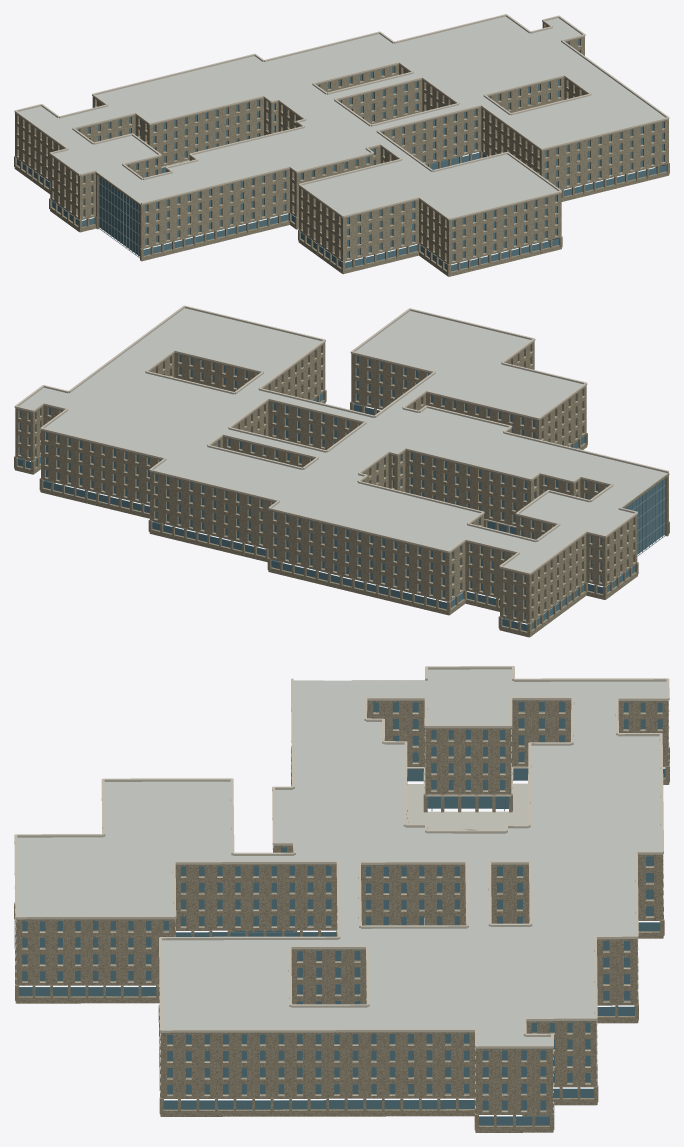
File: zonghe.glb
The picture shows the model from 3 angles, top to bottom: view 1: azimuth 30°, elevation 25°; view 2: azimuth 150°, elevation 25°; view 3: azimuth 270°, elevation 25°; orthographic projection. The views are drawn at different scales.
Parts seen in each view (by area): view 1: roof, wall, trim, glass, metal; view 2: roof, wall, trim, glass, metal; view 3: roof, wall, glass, trim, paving.
Boxes of the visible parts, x1,y1,x2,y2 form: roof: (19, 16, 665, 217); wall: (14, 22, 669, 276); trim: (14, 14, 669, 262); glass: (17, 39, 666, 271); metal: (98, 176, 139, 257); roof: (19, 308, 667, 572); wall: (14, 341, 669, 637); trim: (14, 305, 668, 621); glass: (17, 355, 665, 631); metal: (626, 478, 665, 556); roof: (17, 669, 666, 1045); wall: (14, 680, 669, 1132); glass: (19, 702, 665, 1125); trim: (14, 666, 669, 1112); paving: (407, 783, 527, 830).
Bounding box in the file's own units: 154 × 16.34 × 112.
9 materials, 1 textured.
